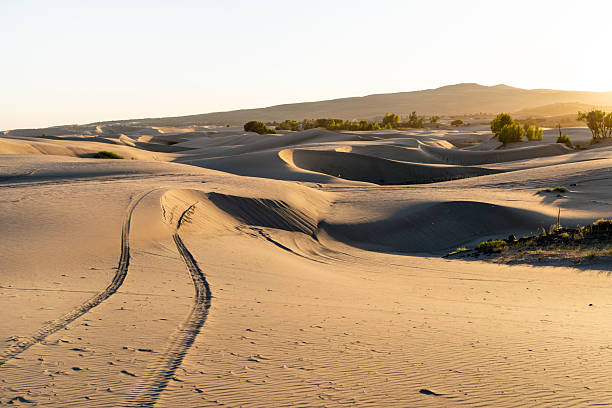vehicle_track: (0, 190, 152, 365), (131, 204, 211, 406)
